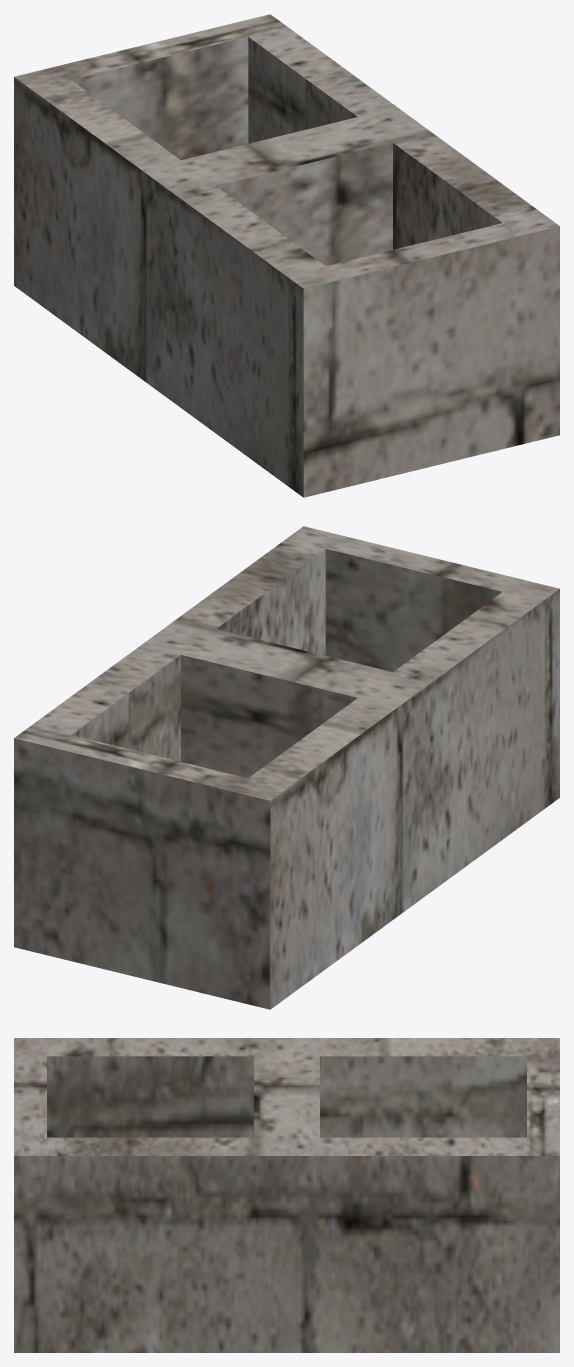
The model's file is cinder.FBX.
The picture shows the model from 3 angles, top to bottom: view 1: azimuth 30°, elevation 25°; view 2: azimuth 150°, elevation 25°; view 3: azimuth 270°, elevation 25°; orthographic projection. The views are drawn at different scales.
Parts seen in each view (by area): view 1: Box001; view 2: Box001; view 3: Box001.
Part boxes in pixels (x1=…): Box001: x1=14, y1=14, x2=559, y2=497; Box001: x1=14, y1=526, x2=559, y2=1009; Box001: x1=14, y1=1038, x2=559, y2=1352.
Bounding box in the file's own units: 8.03 × 15.72 × 6.26.
